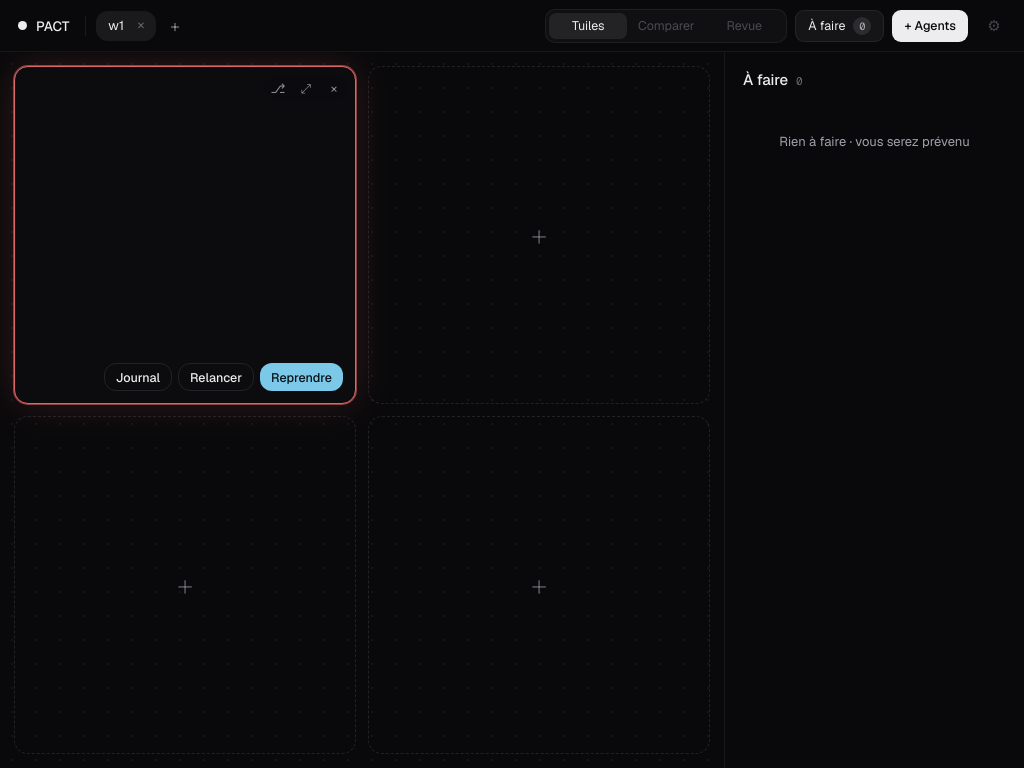
Scenario: App tile actions (US3) › asks before closing an agent, then closes it with the choice made (FR-037)
Click the button named "Fermer l’agent" at [334, 88], box left=321, top=75, right=347, bottom=101
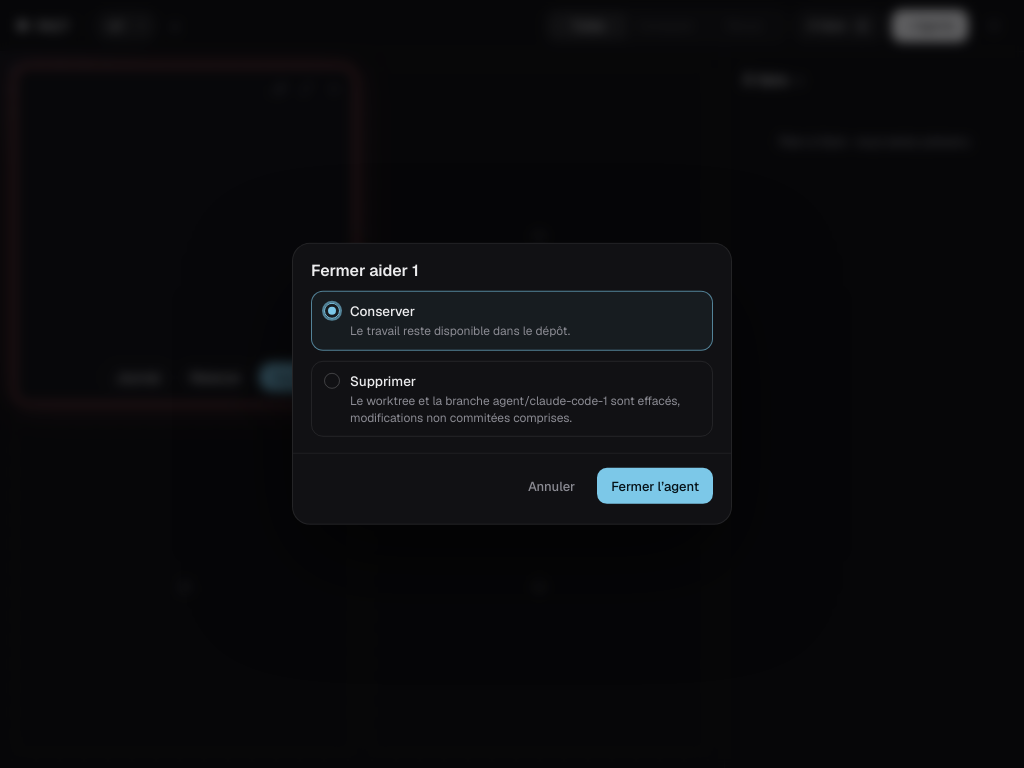
Click the radio button named "Supprimer" next to "Supprimer" at [332, 381], box left=324, top=373, right=340, bottom=389
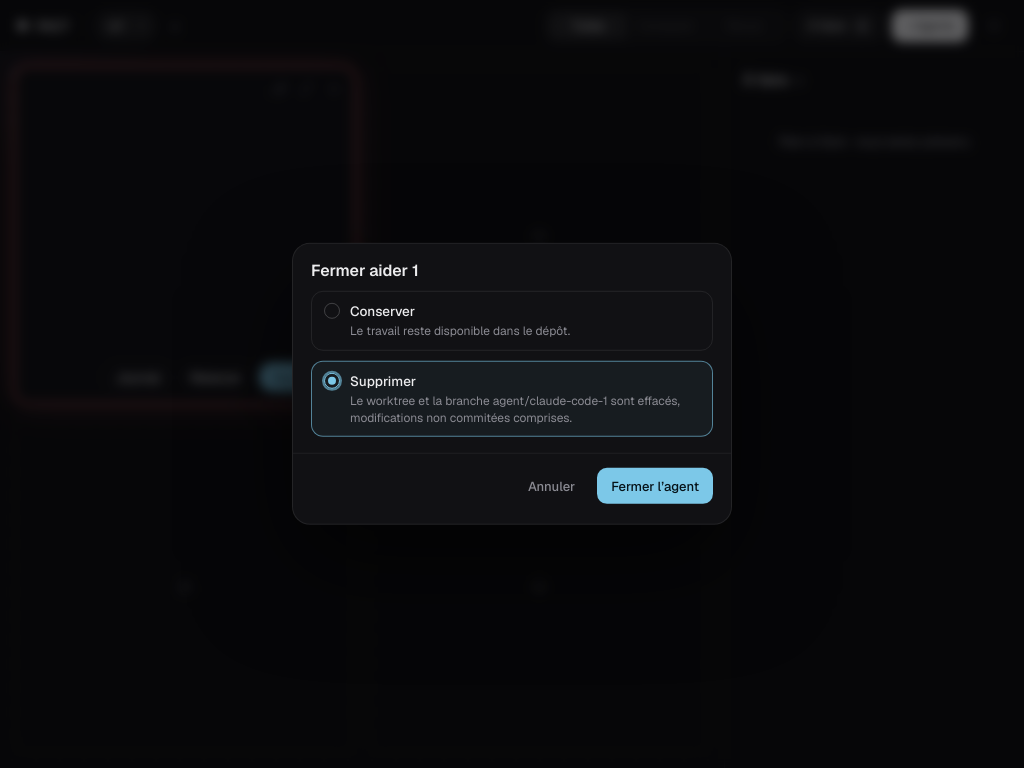
Click the button "Fermer l’agent" at [655, 486], box left=597, top=468, right=713, bottom=504
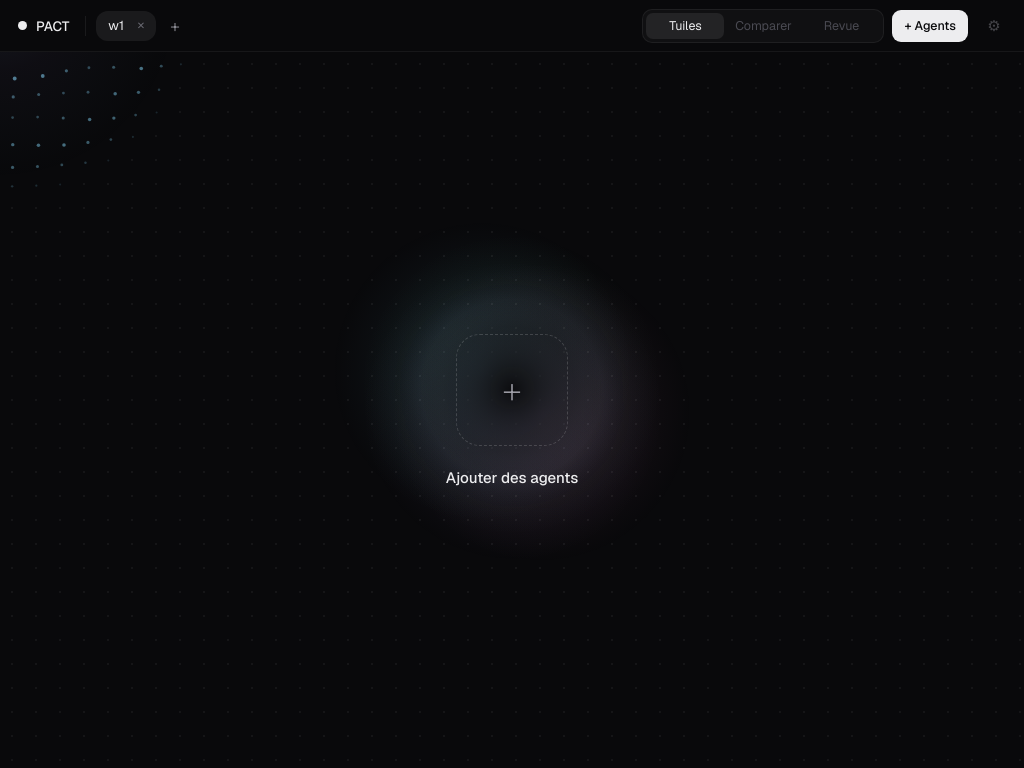
Now the button "+ Ajouter des agents" is shown
